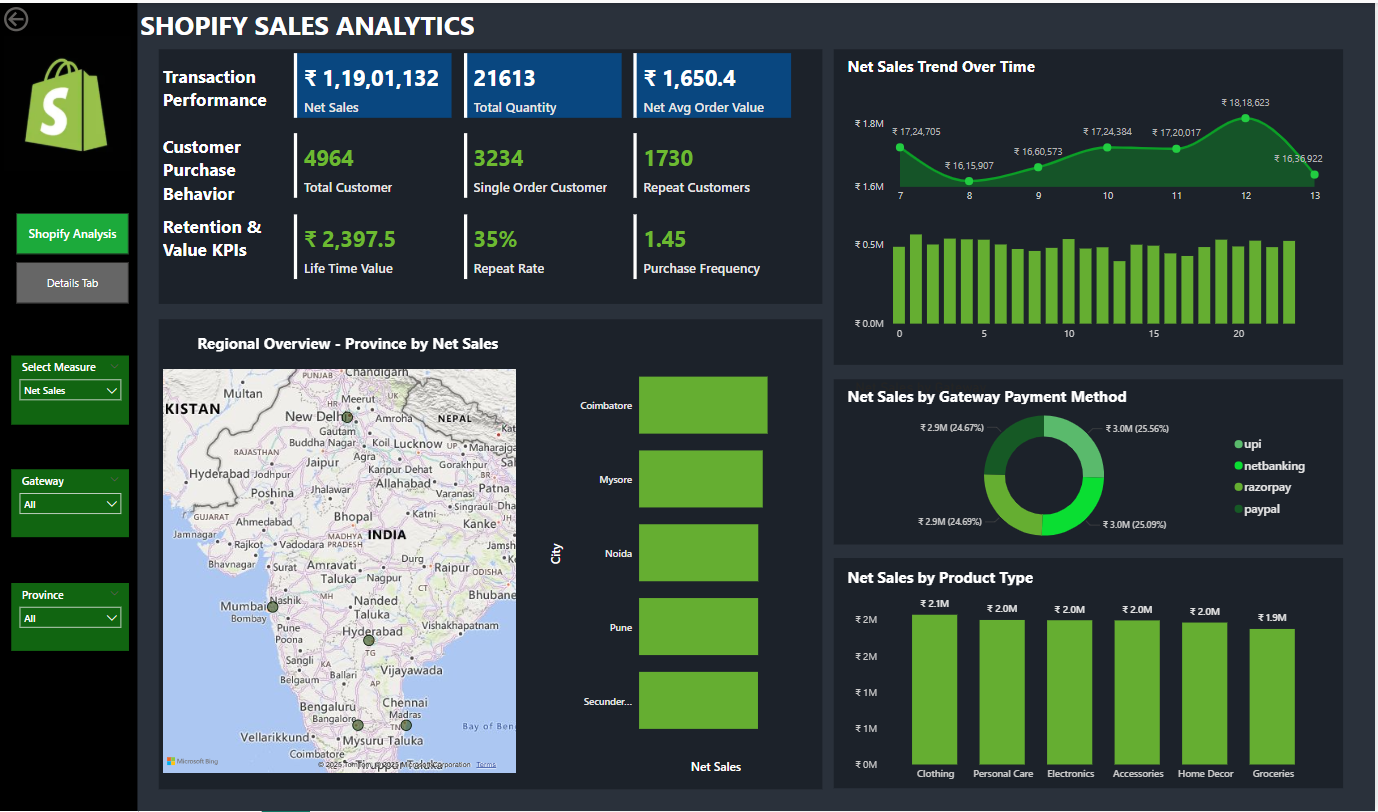

The dashboard page shown, as its layout file describes it:
{"tool":"powerbi","page":{"name":"Shopify Analysis","canvas":[1700,1000],"ordinal":0},"visuals":[{"type":"shape","box":[0,0,170,1000.3],"z":0},{"type":"textbox","box":[169.2,0,474.2,57],"z":1000},{"type":"shape","box":[196,57,821,315],"z":2000},{"type":"cardVisual","fields":{"Data":["shopify data.Net Sales","shopify data.Total Quantity","shopify data.Net Avg Order Value"]},"box":[358.6,57,626.7,90.5],"z":3000},{"type":"textbox","box":[196,70.4,149.1,77.1],"z":4000},{"type":"cardVisual","fields":{"Data":["shopify data.Total Customer","shopify data.Single Order Customer","shopify data.Repeat Customers"]},"box":[358.6,156.7,626.7,90.5],"z":5000},{"type":"textbox","box":[196,157.5,149.1,98.9],"z":6000},{"type":"cardVisual","fields":{"Data":["shopify data.Life Time Value","shopify data.Repeat Rate","shopify data.Purchase Frequency"]},"box":[358.6,256.4,626.7,90.5],"z":7000},{"type":"textbox","box":[196,256.4,135.7,90.5],"z":8000},{"type":"shape","box":[196,390.4,821,581.4],"z":9000},{"type":"map","fields":{"Category":["shopify data.Billing Address Province"]},"box":[196,449.1,447.4,509.4],"z":10000},{"type":"slicer","fields":{"Values":["Select Measure.Select Measure"]},"box":[13.4,435.7,145.8,85.5],"z":11000},{"type":"actionButton","box":[0,0,100,40],"z":12000},{"type":"barChart","fields":{"Y":["shopify data.Net Sales"],"Category":["shopify data.City"]},"box":[675.3,412.2,310,546.2],"z":13000},{"type":"cardVisual","fields":{"Data":["shopify data.Map Title"]},"box":[227.9,390.4,502.7,45.2],"z":14000},{"type":"shape","box":[1030.5,57,630,390.4],"z":15000},{"type":"areaChart","fields":{"Y":["shopify data.Net Sales"],"Category":["shopify data.Invoice DateTime.Variation.Date Hierarchy.Day"]},"box":[1050.6,97.2,589.8,159.2],"z":16000},{"type":"columnChart","fields":{"Y":["shopify data.Net Sales"],"Category":["shopify data.Hour"]},"box":[1050.6,266.4,578.1,160.9],"z":17000},{"type":"cardVisual","fields":{"Data":["shopify data.Trend Title"]},"box":[1030.5,48.6,502.7,45.2],"z":18000},{"type":"shape","box":[1030.5,465.8,630,204.4],"z":19000},{"type":"donutChart","fields":{"Y":["shopify data.Net Sales"],"Category":["shopify data.Gateway"]},"box":[1052.3,465.8,576.4,219.5],"z":20000},{"type":"cardVisual","fields":{"Data":["shopify data.Gateway Title"]},"box":[1030.5,455.8,502.7,45.2],"z":21000},{"type":"slicer","fields":{"Values":["shopify data.Gateway"]},"box":[13.4,576.4,145.8,83.8],"z":22000},{"type":"slicer","fields":{"Values":["shopify data.Billing Address Province"]},"box":[13.4,717.2,145.8,83.8],"z":23000},{"type":"image","box":[0,15.1,167.6,216.2],"z":24000},{"type":"shape","box":[1030.5,687,630,284.9],"z":25000},{"type":"columnChart","fields":{"Y":["shopify data.Net Sales"],"Category":["shopify data 1.product_type"]},"box":[1052.3,717.2,589.8,254.7],"z":26000},{"type":"cardVisual","fields":{"Data":["shopify data.Product Title"]},"box":[1030.5,680.3,502.7,45.2],"z":27000},{"type":"pageNavigator","box":[20.1,259.7,139.1,112.3],"z":28000}]}

Visuals, with their boxes on the page's 1700x1000 design canvas (x1, y1, x2, y2). These are canvas units, not pixel positions in the 1378x812 screenshot, which may show the page scaled, cropped or inside an application window:
shape: <region>0, 0, 170, 1000</region>
textbox: <region>169, 0, 643, 57</region>
shape: <region>196, 57, 1017, 372</region>
cardVisual - shopify data.Net Sales x shopify data.Total Quantity: <region>359, 57, 985, 148</region>
textbox: <region>196, 70, 345, 148</region>
cardVisual - shopify data.Total Customer x shopify data.Single Order Customer: <region>359, 157, 985, 247</region>
textbox: <region>196, 158, 345, 256</region>
cardVisual - shopify data.Life Time Value x shopify data.Repeat Rate: <region>359, 256, 985, 347</region>
textbox: <region>196, 256, 332, 347</region>
shape: <region>196, 390, 1017, 972</region>
map - shopify data.Billing Address Province: <region>196, 449, 643, 958</region>
slicer - Select Measure.Select Measure: <region>13, 436, 159, 521</region>
actionButton: <region>0, 0, 100, 40</region>
barChart - shopify data.Net Sales x shopify data.City: <region>675, 412, 985, 958</region>
cardVisual - shopify data.Map Title: <region>228, 390, 731, 436</region>
shape: <region>1030, 57, 1660, 447</region>
areaChart - shopify data.Net Sales x shopify data.Invoice DateTime.Variation.Date Hierarchy.Day: <region>1051, 97, 1640, 256</region>
columnChart - shopify data.Net Sales x shopify data.Hour: <region>1051, 266, 1629, 427</region>
cardVisual - shopify data.Trend Title: <region>1030, 49, 1533, 94</region>
shape: <region>1030, 466, 1660, 670</region>
donutChart - shopify data.Net Sales x shopify data.Gateway: <region>1052, 466, 1629, 685</region>
cardVisual - shopify data.Gateway Title: <region>1030, 456, 1533, 501</region>
slicer - shopify data.Gateway: <region>13, 576, 159, 660</region>
slicer - shopify data.Billing Address Province: <region>13, 717, 159, 801</region>
image: <region>0, 15, 168, 231</region>
shape: <region>1030, 687, 1660, 972</region>
columnChart - shopify data.Net Sales x shopify data 1.product_type: <region>1052, 717, 1642, 972</region>
cardVisual - shopify data.Product Title: <region>1030, 680, 1533, 726</region>
pageNavigator: <region>20, 260, 159, 372</region>
